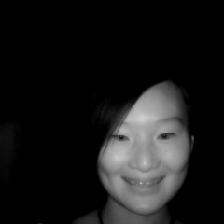happy: (78, 64, 200, 218)
